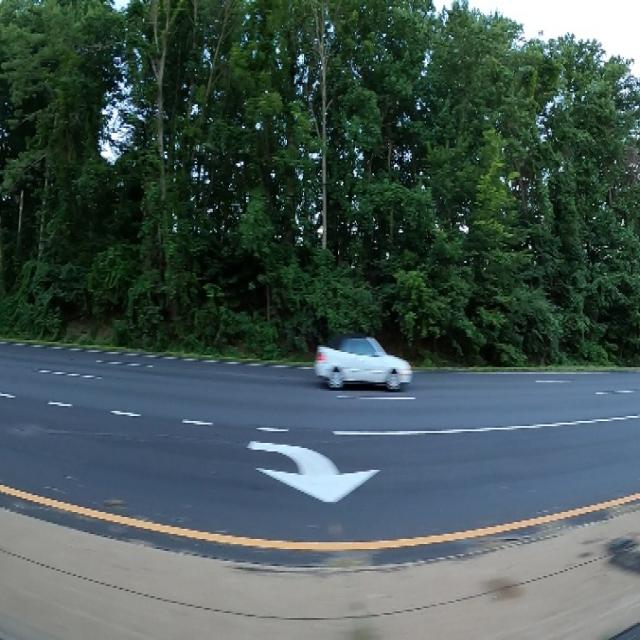cars: (310, 326, 417, 394)
